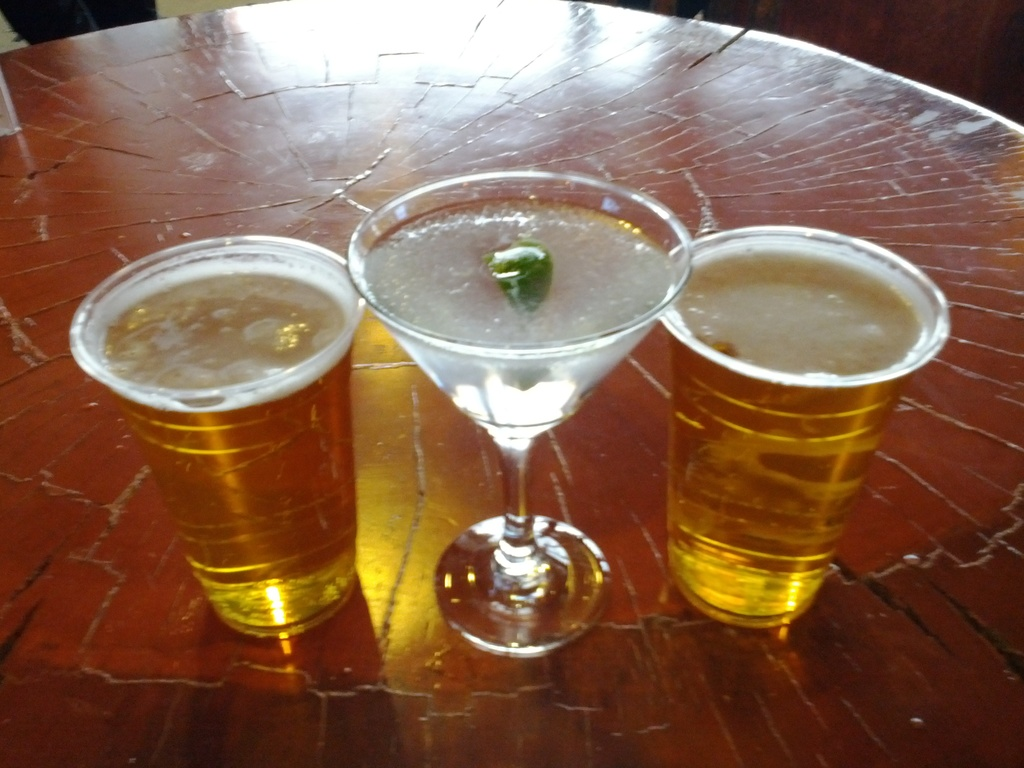Beer: (84, 259, 359, 628), (672, 241, 935, 625)
